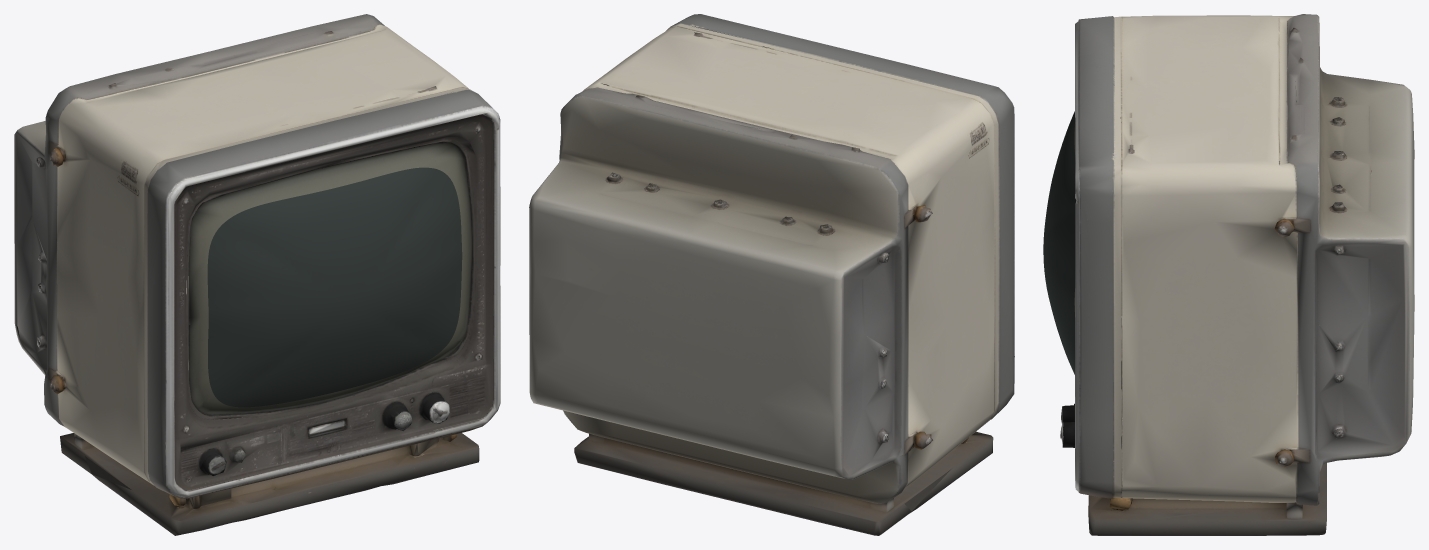
The model's file is tv_crt_b.glb.
The picture shows the model from 3 angles, left to right: view 1: azimuth 30°, elevation 25°; view 2: azimuth 150°, elevation 25°; view 3: azimuth 270°, elevation 25°; orthographic projection.
Visible parts, largest first — view 1: tv_crt_b, tv_screen; view 2: tv_crt_b; view 3: tv_crt_b, tv_screen.
Part boxes in pixels (x1=…): tv_crt_b: x1=14, y1=14, x2=500, y2=535; tv_screen: x1=207, y1=167, x2=462, y2=407; tv_crt_b: x1=529, y1=14, x2=1014, y2=535; tv_crt_b: x1=1060, y1=14, x2=1414, y2=535; tv_screen: x1=1043, y1=111, x2=1076, y2=375.
Size of the model in its own units: 0.5007 by 0.4834 by 0.4318.
2 materials, 1 textured.
